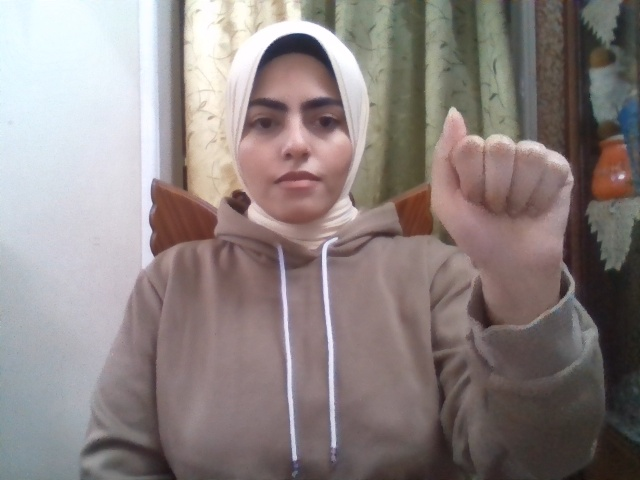A: (430, 108, 573, 275)
